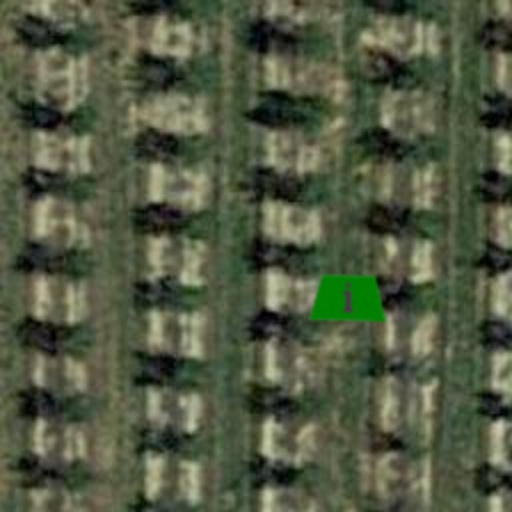trapezoid: (308, 258, 388, 338)
